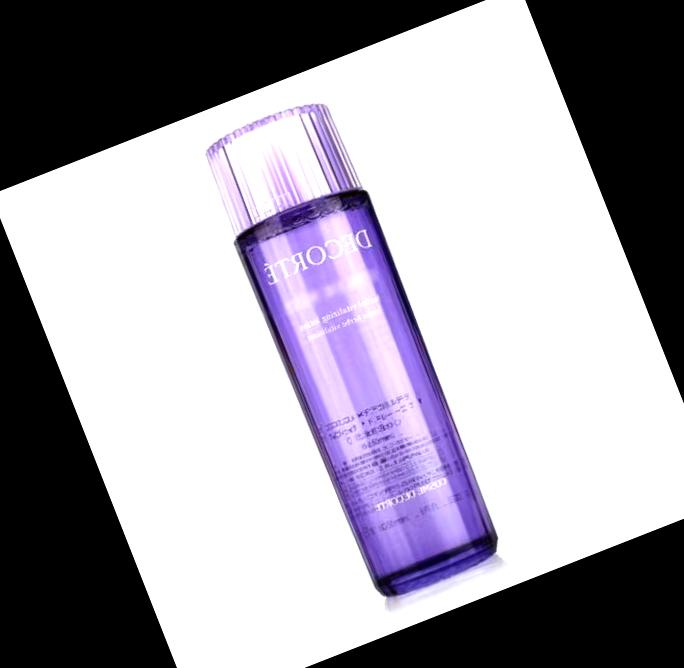cosmetic: (193, 93, 517, 607)
